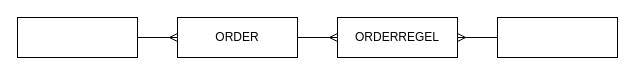
Some shapes in this 635 by 75 pixel diagram are drawn without their labels. The centre of each missing label's shape, as x and y in pixels:
"ARTIKEL" belongs at (x=557, y=37).
"LEVERANCIER" belongs at (x=77, y=37).
